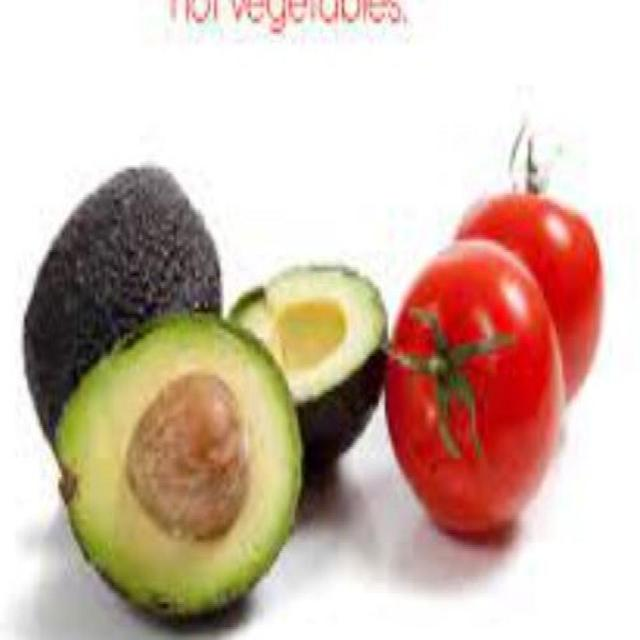Healthy Fruit: (110, 181, 352, 260)
